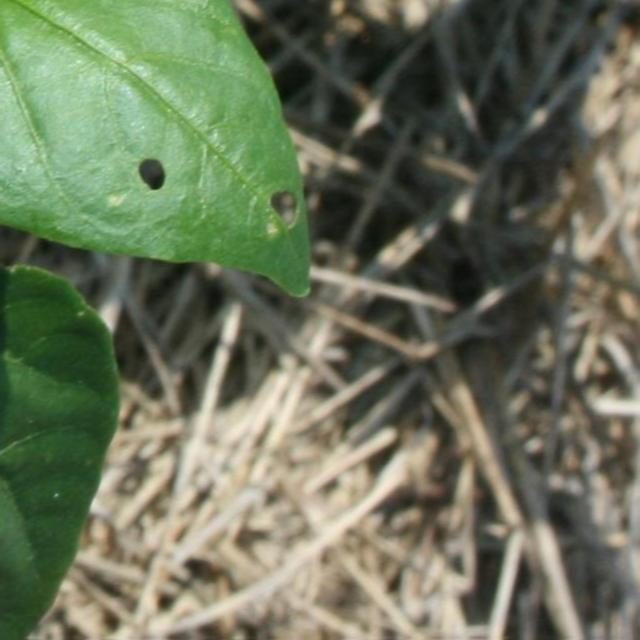Tomato leaf: (0, 0, 404, 284)
